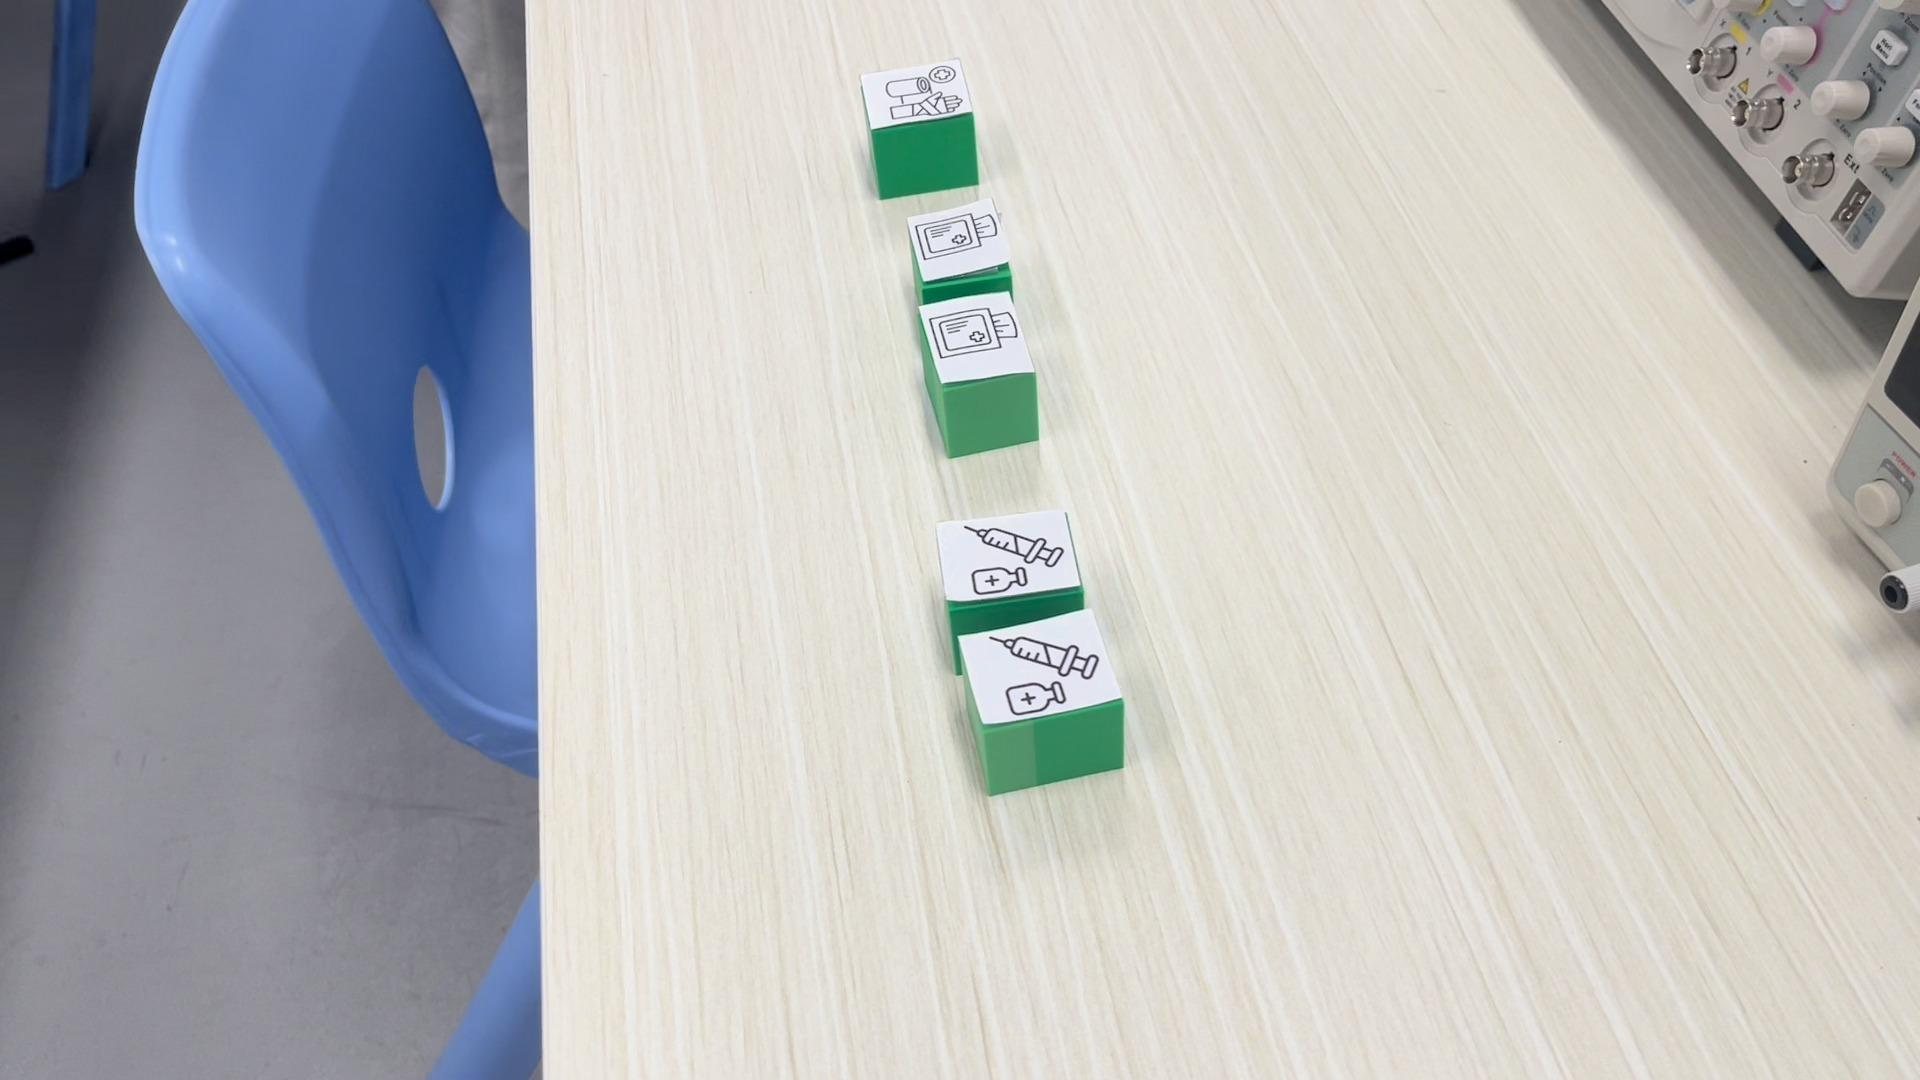Bandages: (855, 59, 978, 200)
Gauze: (915, 290, 1043, 458), (909, 194, 1011, 291)
antiseptic cream: (948, 597, 1127, 795), (935, 506, 1089, 615)
